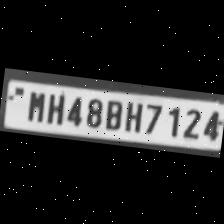1: (160, 101, 182, 137)
2: (178, 104, 204, 140)
4: (200, 105, 224, 141), (63, 90, 85, 127)
7: (140, 99, 163, 135)
8: (82, 92, 104, 127)
B: (102, 94, 124, 130)
H: (42, 88, 66, 124), (120, 96, 144, 132)
M: (22, 86, 46, 121)
